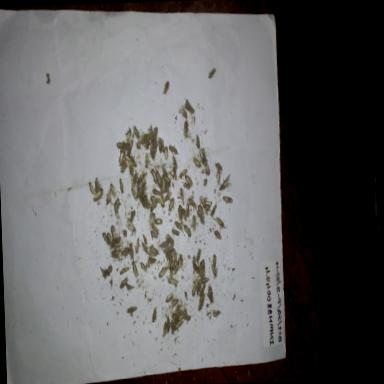pbw: (134, 182, 146, 200), (119, 243, 130, 262), (196, 295, 207, 314), (91, 186, 104, 202), (184, 98, 195, 116), (202, 156, 210, 180), (126, 301, 138, 317), (146, 210, 156, 229), (176, 252, 186, 271), (156, 264, 168, 279), (178, 304, 188, 322), (149, 304, 158, 324), (172, 220, 184, 234), (148, 244, 160, 258), (123, 278, 135, 292), (176, 203, 184, 224), (213, 159, 224, 174), (160, 161, 169, 179), (130, 170, 139, 188), (212, 227, 222, 243), (149, 220, 159, 236), (182, 119, 190, 139), (198, 146, 206, 166), (168, 296, 180, 309), (127, 238, 134, 260), (190, 252, 197, 274), (125, 218, 136, 232), (131, 259, 139, 278), (207, 282, 214, 303), (179, 102, 187, 120), (118, 176, 126, 194), (110, 180, 118, 198), (170, 244, 178, 262), (170, 164, 178, 182), (140, 238, 149, 254), (112, 232, 121, 248), (140, 190, 148, 208), (127, 138, 135, 156), (162, 79, 171, 95), (88, 180, 96, 198), (207, 66, 218, 79), (177, 168, 188, 181), (182, 311, 192, 325), (188, 195, 198, 209), (164, 232, 174, 246), (127, 158, 134, 178), (136, 171, 146, 185), (184, 172, 194, 186), (113, 195, 120, 214), (195, 244, 202, 263), (118, 263, 130, 274), (166, 314, 172, 336), (168, 196, 176, 212), (135, 134, 143, 150), (110, 224, 118, 240), (150, 168, 158, 184), (128, 207, 136, 223), (214, 168, 222, 184), (130, 186, 138, 202), (196, 206, 204, 222), (144, 130, 151, 148), (161, 320, 168, 338), (200, 256, 206, 277), (125, 126, 132, 144), (212, 306, 221, 320), (150, 184, 161, 195), (148, 194, 160, 204), (222, 192, 232, 204), (191, 212, 197, 232), (164, 188, 172, 203), (148, 122, 154, 142), (118, 276, 128, 288), (164, 290, 174, 302), (109, 248, 119, 260), (168, 142, 178, 154), (105, 187, 112, 204), (210, 252, 217, 269), (155, 169, 162, 186), (119, 161, 128, 174), (211, 263, 218, 279), (140, 132, 148, 146), (132, 124, 139, 140), (196, 202, 204, 216), (192, 155, 200, 169), (168, 256, 176, 270), (149, 198, 157, 212), (130, 154, 138, 168), (190, 281, 197, 297), (115, 139, 126, 149), (171, 310, 181, 321), (144, 150, 150, 168), (165, 246, 174, 258), (206, 287, 212, 305), (194, 132, 200, 150), (174, 318, 183, 330), (141, 231, 148, 246), (199, 195, 207, 208), (198, 283, 206, 296), (162, 144, 168, 161), (134, 237, 140, 254), (168, 276, 178, 286), (114, 242, 124, 252), (162, 244, 172, 254), (198, 260, 203, 280), (200, 274, 210, 284), (171, 226, 180, 237), (101, 231, 108, 245), (106, 230, 112, 246), (119, 150, 125, 166), (184, 201, 190, 217), (172, 154, 178, 170), (216, 216, 224, 228), (172, 260, 178, 276), (183, 180, 192, 190), (149, 142, 154, 160), (160, 177, 166, 192), (179, 186, 184, 204), (159, 239, 169, 248), (147, 255, 156, 265), (149, 229, 157, 240), (163, 174, 171, 185), (184, 224, 190, 238), (153, 124, 159, 138), (121, 142, 128, 154), (110, 236, 116, 250), (194, 274, 202, 284), (113, 202, 118, 218), (158, 193, 164, 206), (140, 260, 147, 271), (124, 153, 132, 162), (170, 318, 176, 330), (153, 216, 162, 224), (160, 136, 164, 154), (158, 136, 162, 154), (210, 203, 216, 215), (93, 178, 98, 192), (99, 181, 104, 194), (204, 199, 212, 207), (182, 206, 186, 222), (152, 137, 157, 148)
